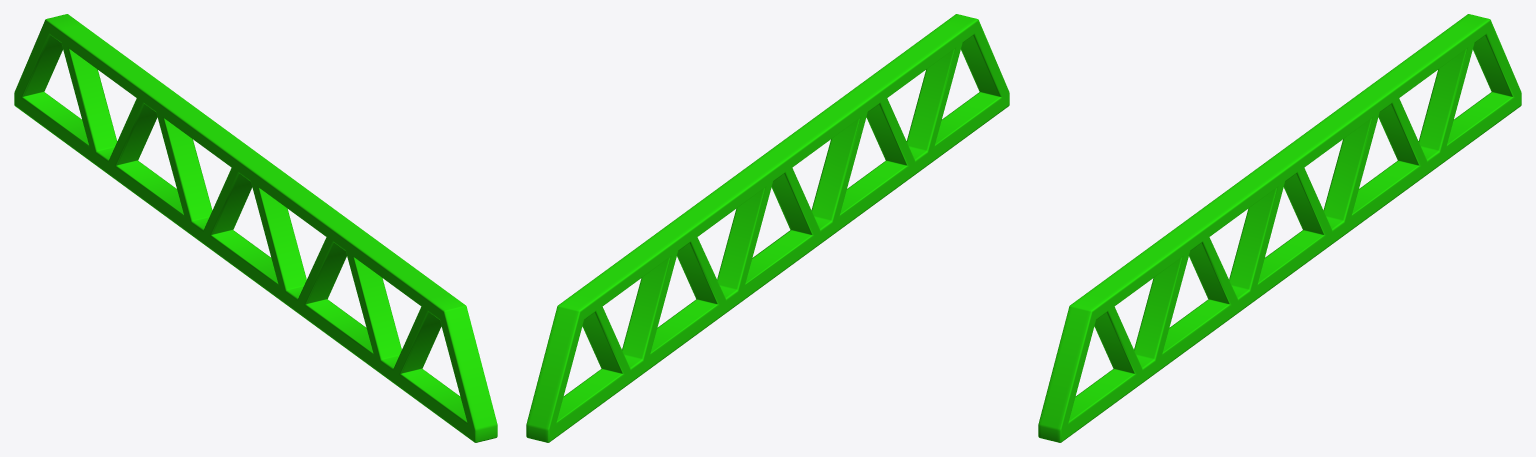
The model's file is Metal_Сonstruction02.fbx.
3 renders of one model, left to right at view 1: azimuth 30°, elevation 25°; view 2: azimuth 150°, elevation 25°; view 3: azimuth 330°, elevation 25°, orthographic.
Parts seen in each view (by area): view 1: SM_Metal_Сonstruction02; view 2: SM_Metal_Сonstruction02; view 3: SM_Metal_Сonstruction02.
Part boxes in pixels (x1,y1,x2,y2): SM_Metal_Сonstruction02: (14, 14, 497, 442); SM_Metal_Сonstruction02: (526, 14, 1009, 442); SM_Metal_Сonstruction02: (1038, 14, 1521, 442).
Bounding box in the file's own units: 0.1 × 0.4597 × 3.5.
